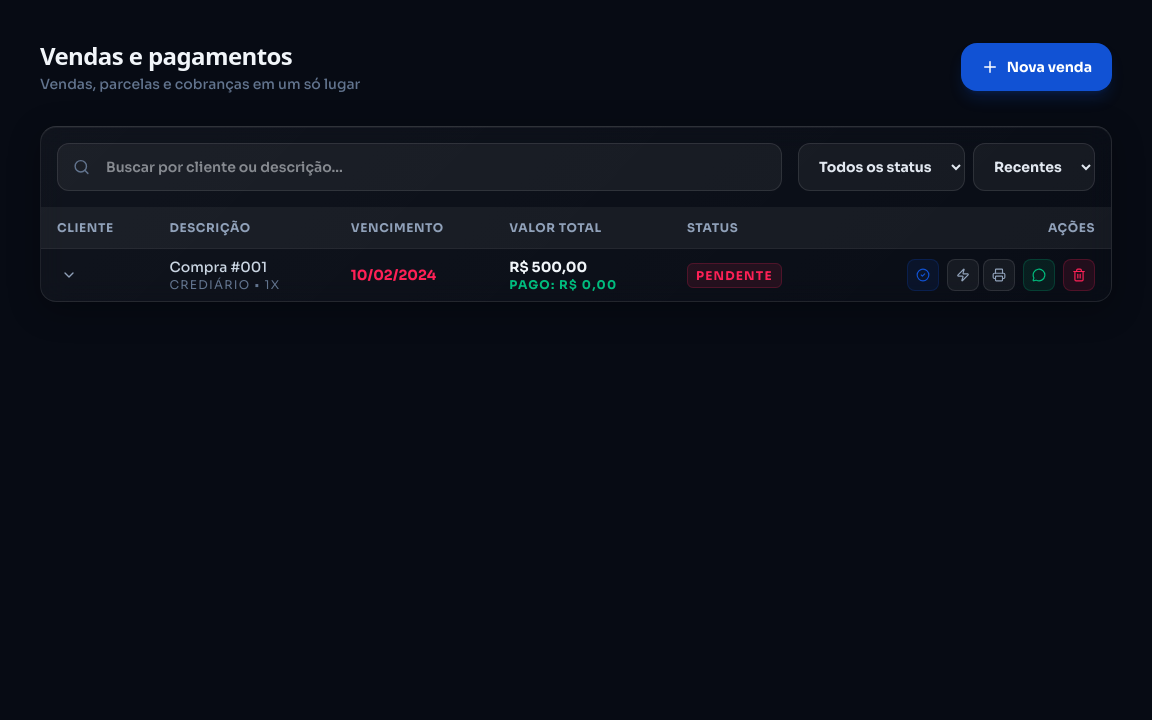
Test case: ClientPaymentsPage — comportamento (caracterização) › botão "Novo Registro" abre o modal de cadastro
This screenshot has width=1152, height=720.
Check: the text "Novo Registro de Venda/Pagamento" is not shown
Click the button with aria-label "Novo Registro" at (1036, 67), box 961,43 -> 1112,91
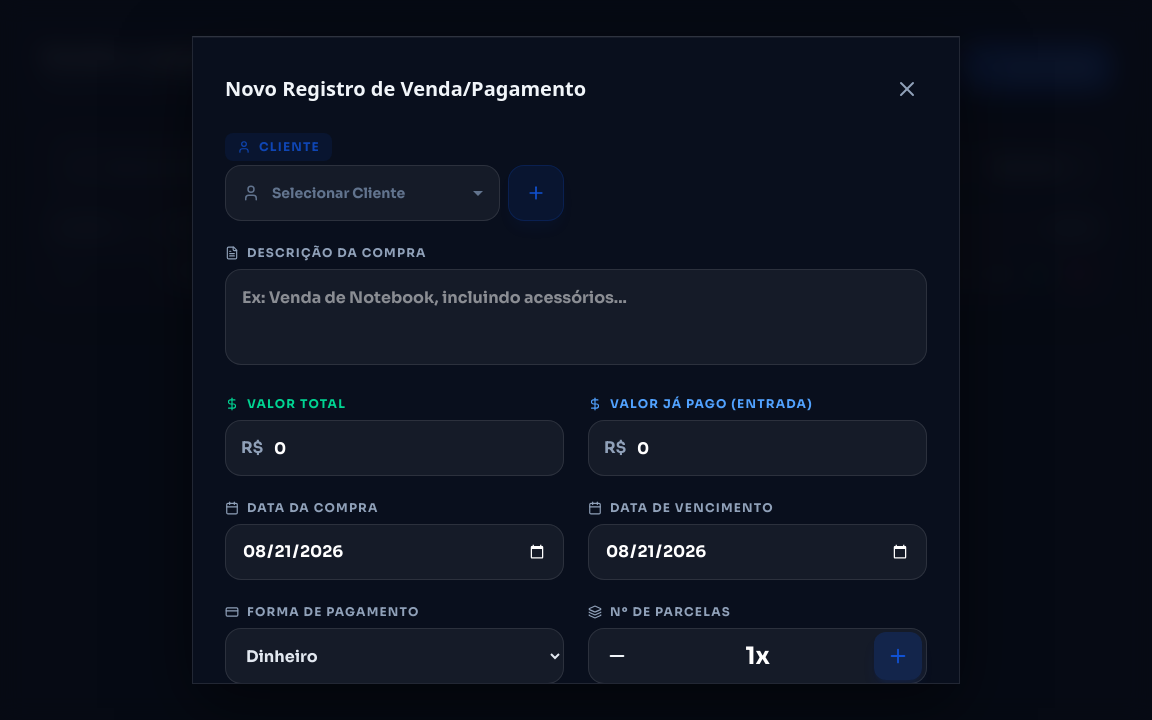
Check: the heading "Novo Registro de Venda/Pagamento" is shown, box 225,75 -> 586,103
